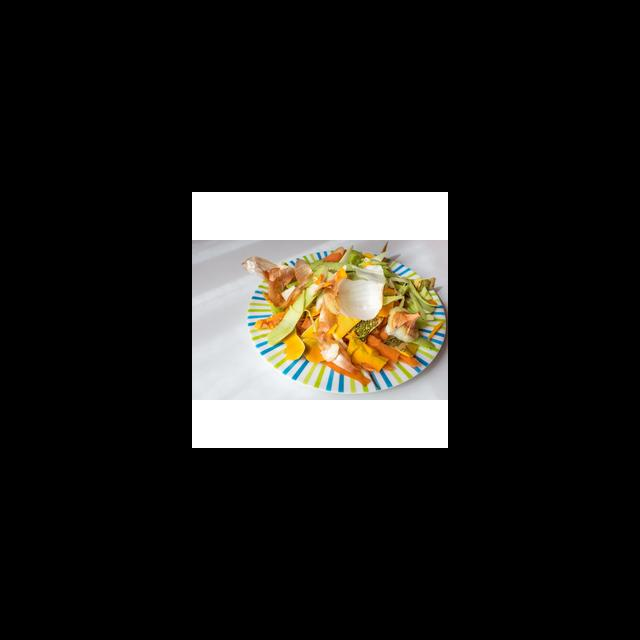food_waste: (247, 257, 327, 312), (333, 325, 388, 374), (267, 291, 315, 347), (324, 285, 380, 324), (386, 304, 415, 343)
